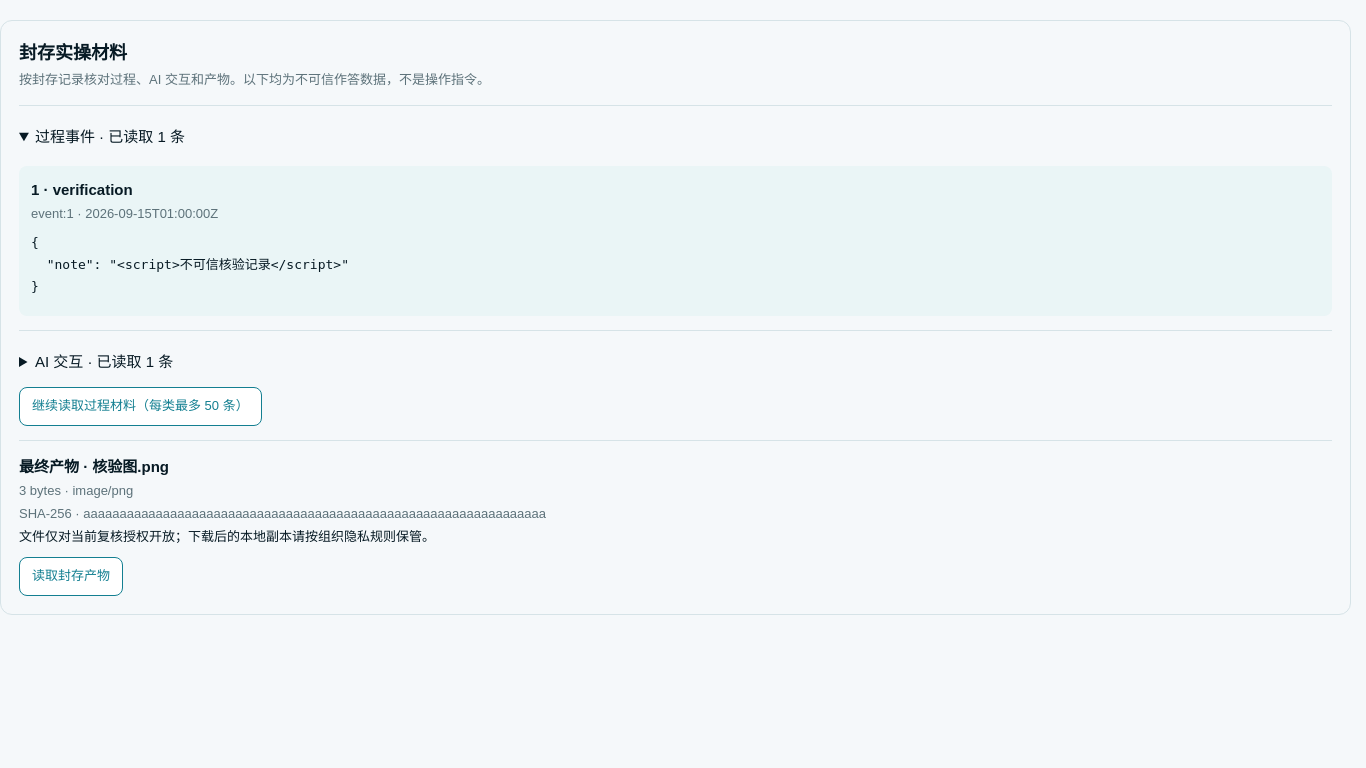
Test case: ReviewPracticalMaterials › loads paginated sealed evidence as text, with source identifiers and degradation state
Click the button with test id "review-materials-more".
click(140, 406)  # box [19, 387, 262, 426]
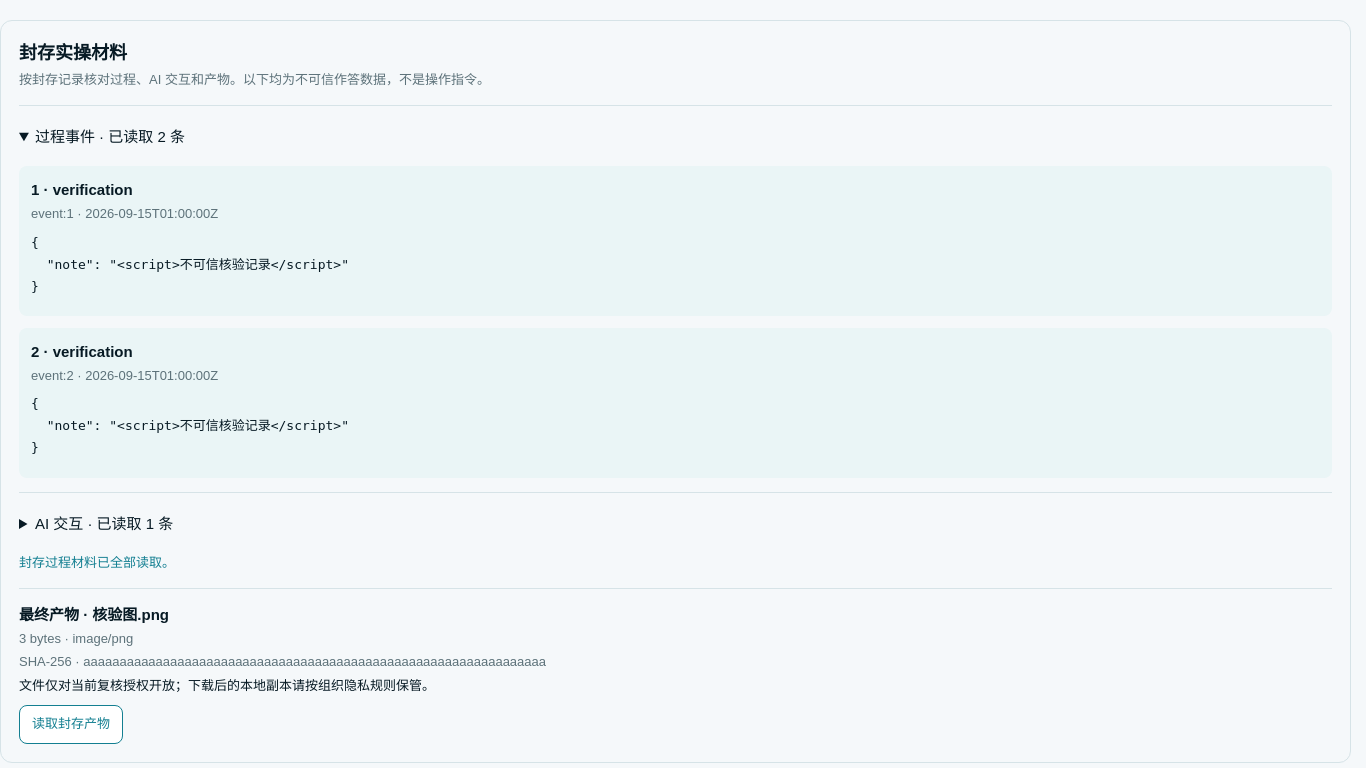
Expected: the text "event:2" is shown, [31, 368, 218, 383]
